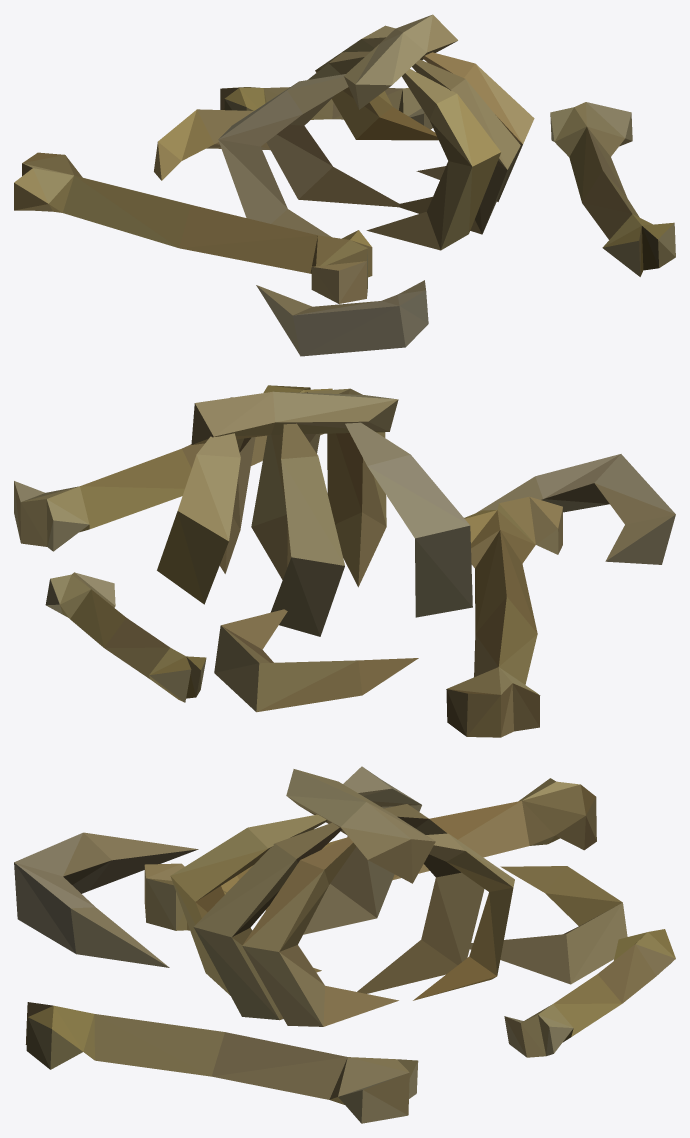
Rendered from prop_junk_bones.fbx.
3 views of the same model, one above another, from view 1: azimuth 30°, elevation 25°; view 2: azimuth 150°, elevation 25°; view 3: azimuth 270°, elevation 25° (orthographic). The views are drawn at different scales.
Parts seen in each view (by area): view 1: prop_junk_bones; view 2: prop_junk_bones; view 3: prop_junk_bones.
Part boxes in pixels (bbox=[...]): prop_junk_bones: bbox=[14, 14, 675, 356]; prop_junk_bones: bbox=[14, 385, 675, 737]; prop_junk_bones: bbox=[14, 766, 675, 1123].
Size of the model in its own units: 2.74 by 0.8913 by 2.48.
